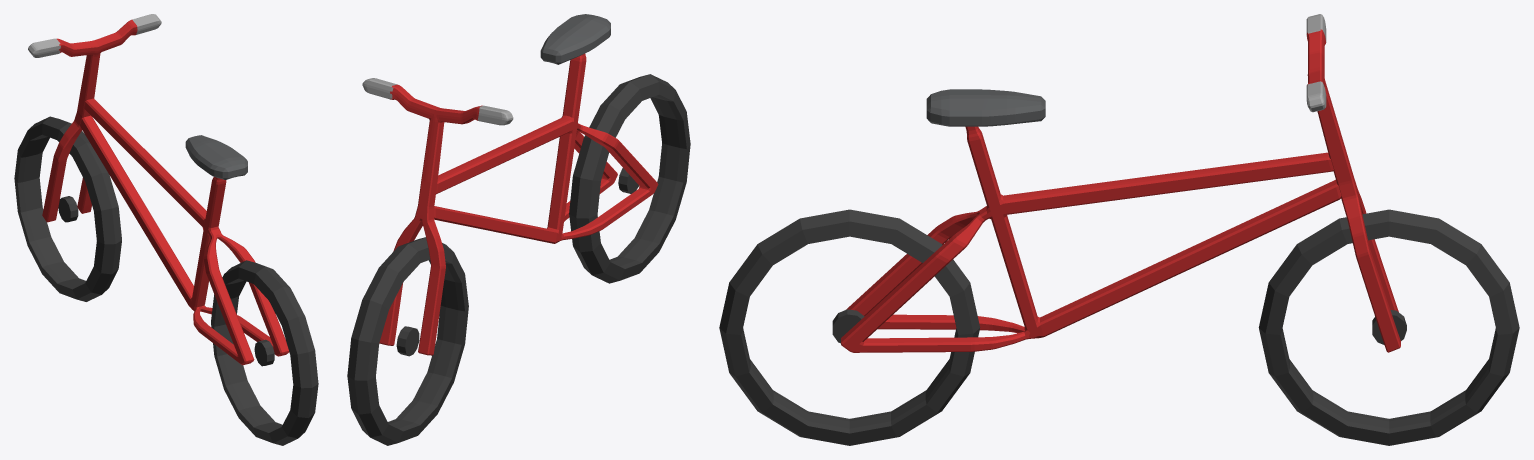
File: Bicycle.fbx
3 views of the same model, side by side, from view 1: azimuth 30°, elevation 25°; view 2: azimuth 150°, elevation 25°; view 3: azimuth 270°, elevation 25° (orthographic). The views are drawn at different scales.
Parts seen in each view (by area): view 1: Frame; view 2: Frame; view 3: Frame.
Boxes of the visible parts, box(x1,y1,x2,y2) form: Frame: box(14, 14, 318, 445); Frame: box(347, 14, 690, 445); Frame: box(719, 14, 1519, 445).
Size of the model in its own units: 0.4532 by 0.9554 by 1.77.
